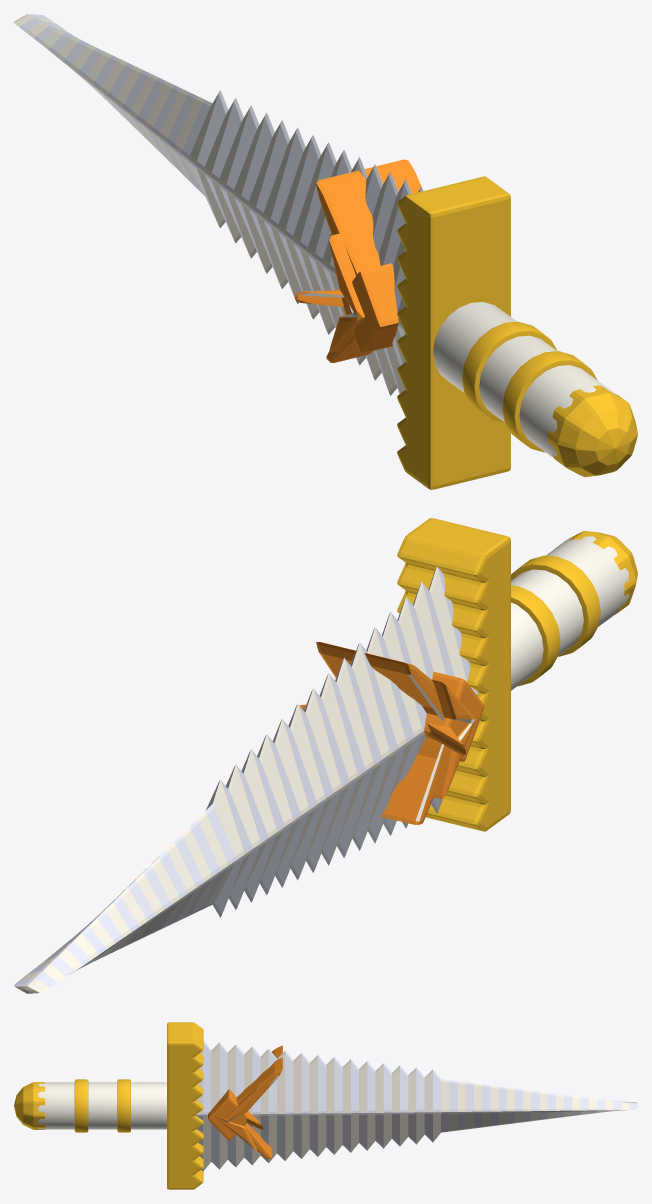
The model's file is Sword_OrigamiCraneBlade.glb.
The picture shows the model from 3 angles, top to bottom: view 1: azimuth 30°, elevation 25°; view 2: azimuth 150°, elevation 25°; view 3: azimuth 270°, elevation 25°; orthographic projection. The views are drawn at different scales.
Parts seen in each view (by area): view 1: Sword_OrigamiCraneBlade; view 2: Sword_OrigamiCraneBlade; view 3: Sword_OrigamiCraneBlade.
Part boxes in pixels (left/top/right/bottom): Sword_OrigamiCraneBlade: left=14, top=14, right=637, bottom=489; Sword_OrigamiCraneBlade: left=14, top=518, right=637, bottom=993; Sword_OrigamiCraneBlade: left=14, top=1022, right=637, bottom=1189.
Size of the model in its own units: 0.1679 by 0.26 by 1.
1 material, 1 textured.
